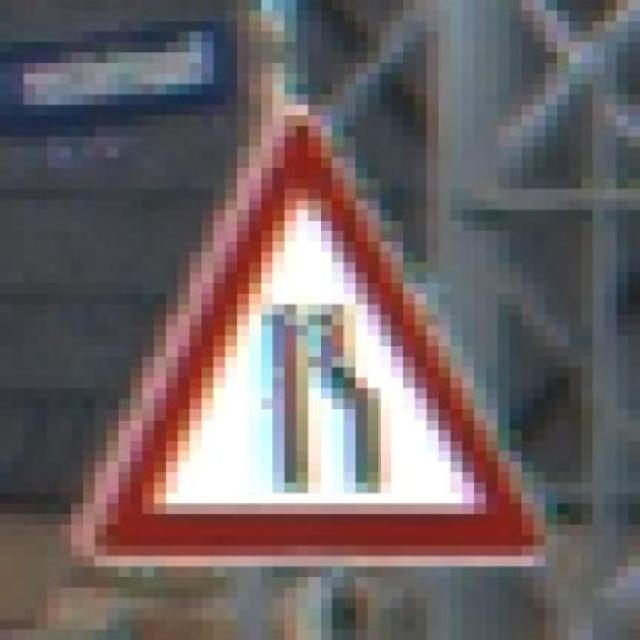-Road narrows on right: (53, 101, 564, 584)
